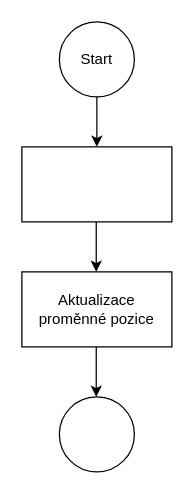
Some shapes in this 194 by 494 pixel diagram are drawn without their labels. Each missing label, with the centre of its shape:
"Konec" belongs at point 96,434.
"Natočení serva2 na -40°" belongs at point 96,184.
